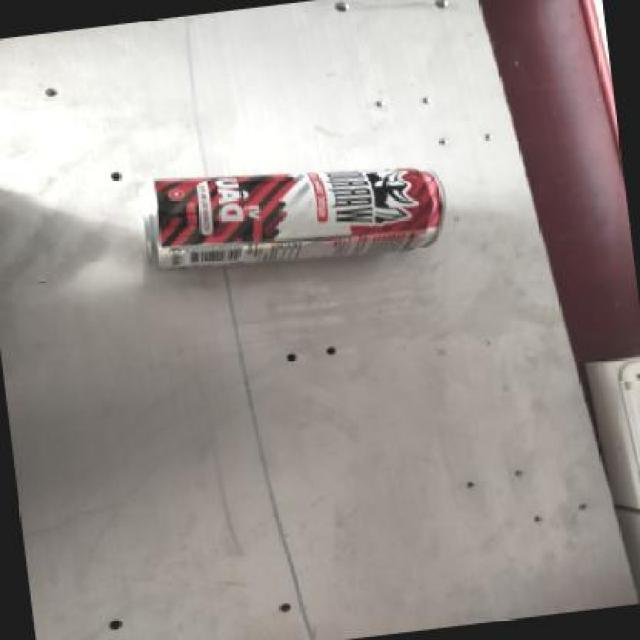metal: (141, 166, 446, 280)
